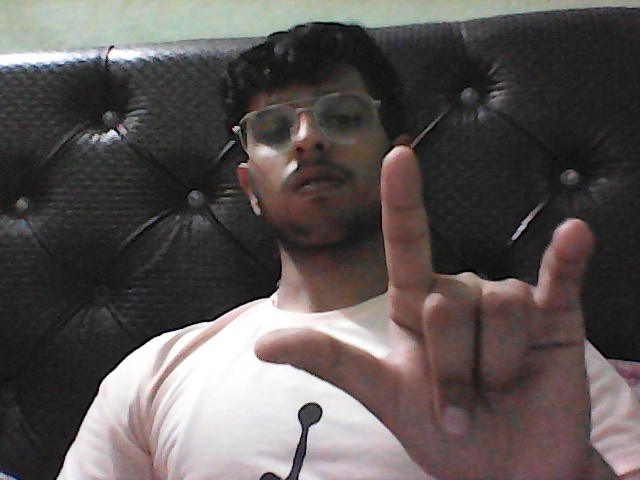iloveyou: (264, 158, 599, 480)
